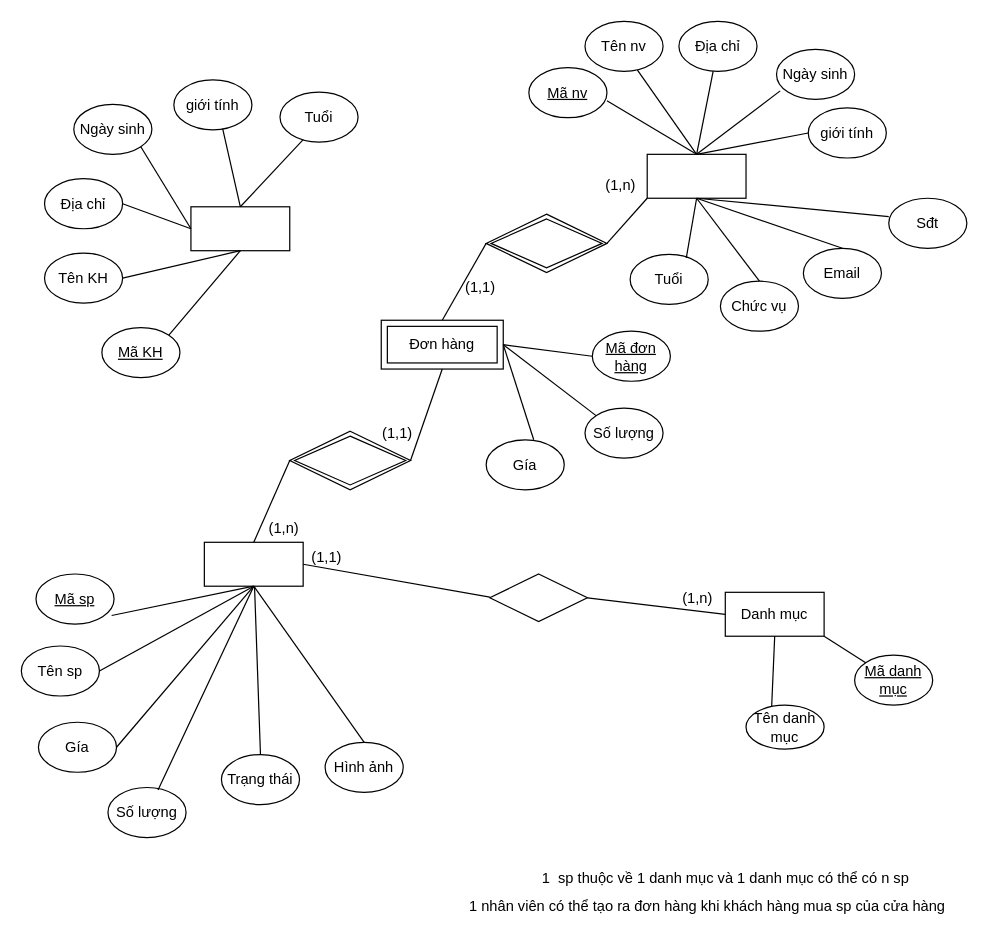
Image size: 988x944. Some labels were removed from this diagram. Here are the shapes that lost their labels. From the top down, the box of each, then its label:
(646, 153, 746, 198): Nhân viên
(190, 206, 290, 251): Khách hàng
(485, 213, 607, 273): Đh-Sp
(289, 430, 411, 490): Sp-Đh
(203, 541, 303, 586): Sản phẩm
(489, 573, 587, 622): Thuộc
